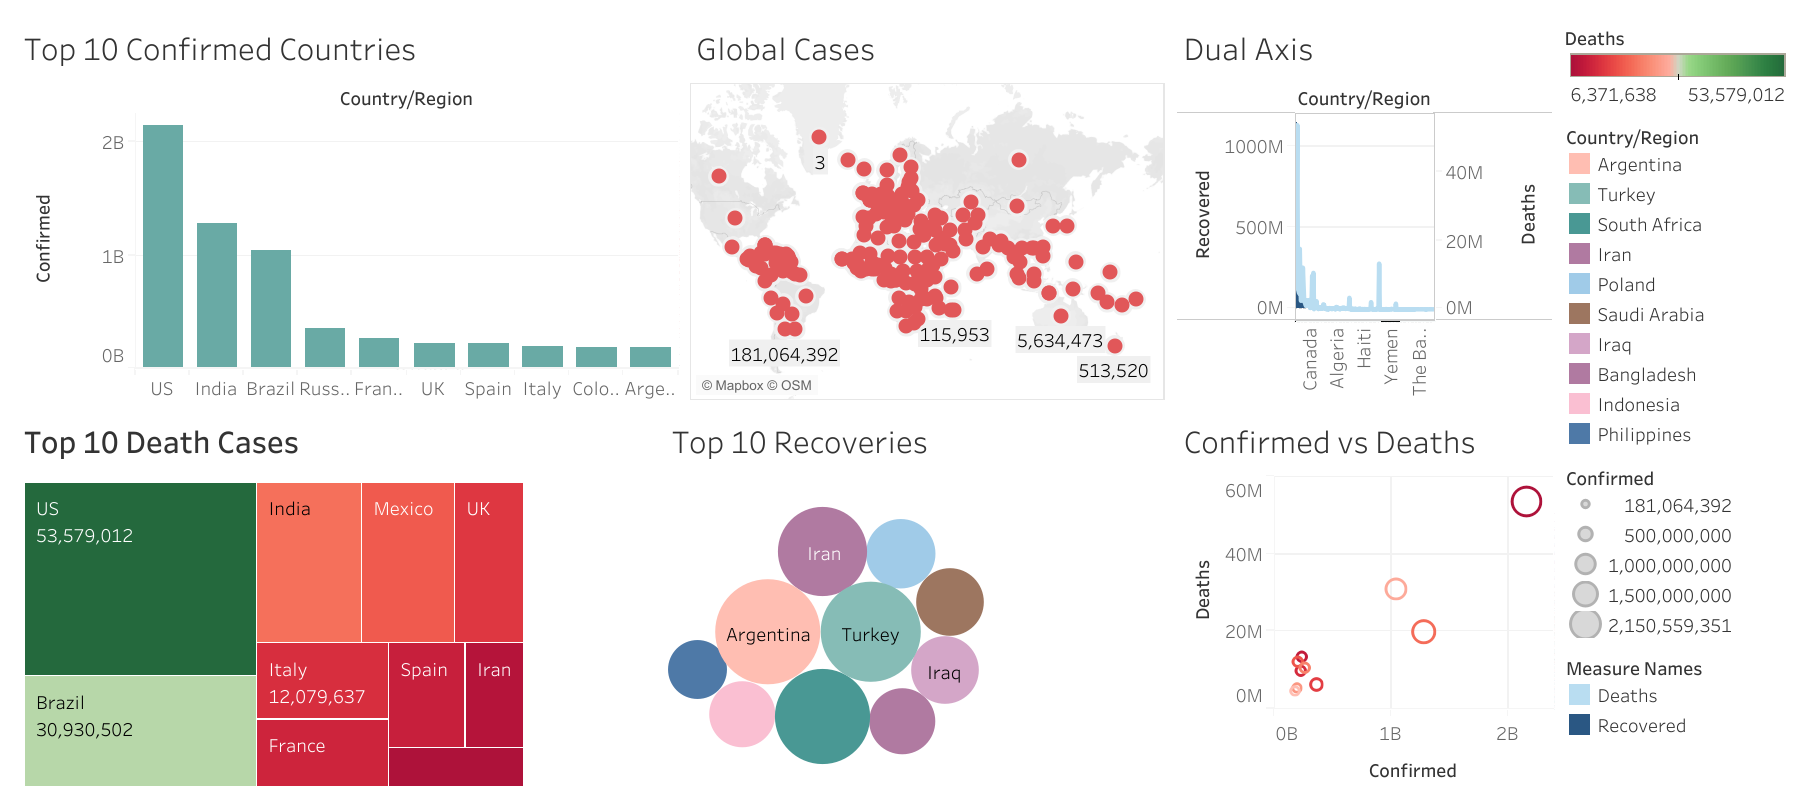

The page's visual inventory and layout, read from the dashboard file:
{"tool":"tableau","page":{"name":"Dashboard 1","canvas":[1000,1000],"units":"permille","ordinal":0},"visuals":[{"type":"worksheet","title":"Top 10 Confirmed Countries","mark":"Automatic","rows":["Confirmed"],"cols":["Country/Region"],"box":[5,9.1,386.5,490.9]},{"type":"worksheet","title":"Global Cases","mark":"Automatic","box":[391.5,9.1,281.2,490.9]},{"type":"worksheet","title":"Dual Axis","mark":"Line","rows":["Recovered","Deaths"],"cols":["Country/Region"],"box":[672.7,9.1,222.6,490.9]},{"type":"legend","title":"Top 10 Death Cases","param":"[federated.1y0e4dx0c7o5vj11e9psg0fz8gkm].[sum:Deaths:qk]","box":[895.3,9.1,99.8,92.2]},{"type":"legend","title":"Top 10 Recoveries","param":"[federated.1y0e4dx0c7o5vj11e9psg0fz8gkm].[none:Country/Region:nk]","box":[895.3,101.4,99.8,323.5]},{"type":"legend","title":"Confirmed vs Deaths","param":"[federated.1y0e4dx0c7o5vj11e9psg0fz8gkm].[sum:Confirmed:qk]","box":[895.3,424.8,99.8,181.1]},{"type":"worksheet","title":"Top 10 Death Cases","mark":"Automatic","box":[5,500,373.4,490.9]},{"type":"worksheet","title":"Top 10 Recoveries","mark":"Circle","box":[378.4,500,294.3,490.9]},{"type":"worksheet","title":"Confirmed vs Deaths","mark":"Automatic","rows":["Deaths"],"cols":["Confirmed"],"box":[672.7,500,222.6,490.9]},{"type":"legend","title":"Dual Axis","param":"[federated.1y0e4dx0c7o5vj11e9psg0fz8gkm].[:Measure Names]","box":[895.3,605.9,99.8,95.7]}]}

Visuals, with their boxes on the dashboard's canvas, which has no fixed pixel size, in thousandths of its width and height (x1, y1, x2, y2). These are canvas units, not pixel positions in the 1809x810 screenshot, which may show the page scaled, cropped or inside an application window:
"Top 10 Confirmed Countries" worksheet: bbox=[5, 9, 392, 500]
"Global Cases" worksheet: bbox=[392, 9, 673, 500]
"Dual Axis" worksheet (Line marks): bbox=[673, 9, 895, 500]
"Top 10 Death Cases" legend: bbox=[895, 9, 995, 101]
"Top 10 Recoveries" legend: bbox=[895, 101, 995, 425]
"Confirmed vs Deaths" legend: bbox=[895, 425, 995, 606]
"Top 10 Death Cases" worksheet: bbox=[5, 500, 378, 991]
"Top 10 Recoveries" worksheet (Circle marks): bbox=[378, 500, 673, 991]
"Confirmed vs Deaths" worksheet: bbox=[673, 500, 895, 991]
"Dual Axis" legend: bbox=[895, 606, 995, 702]
